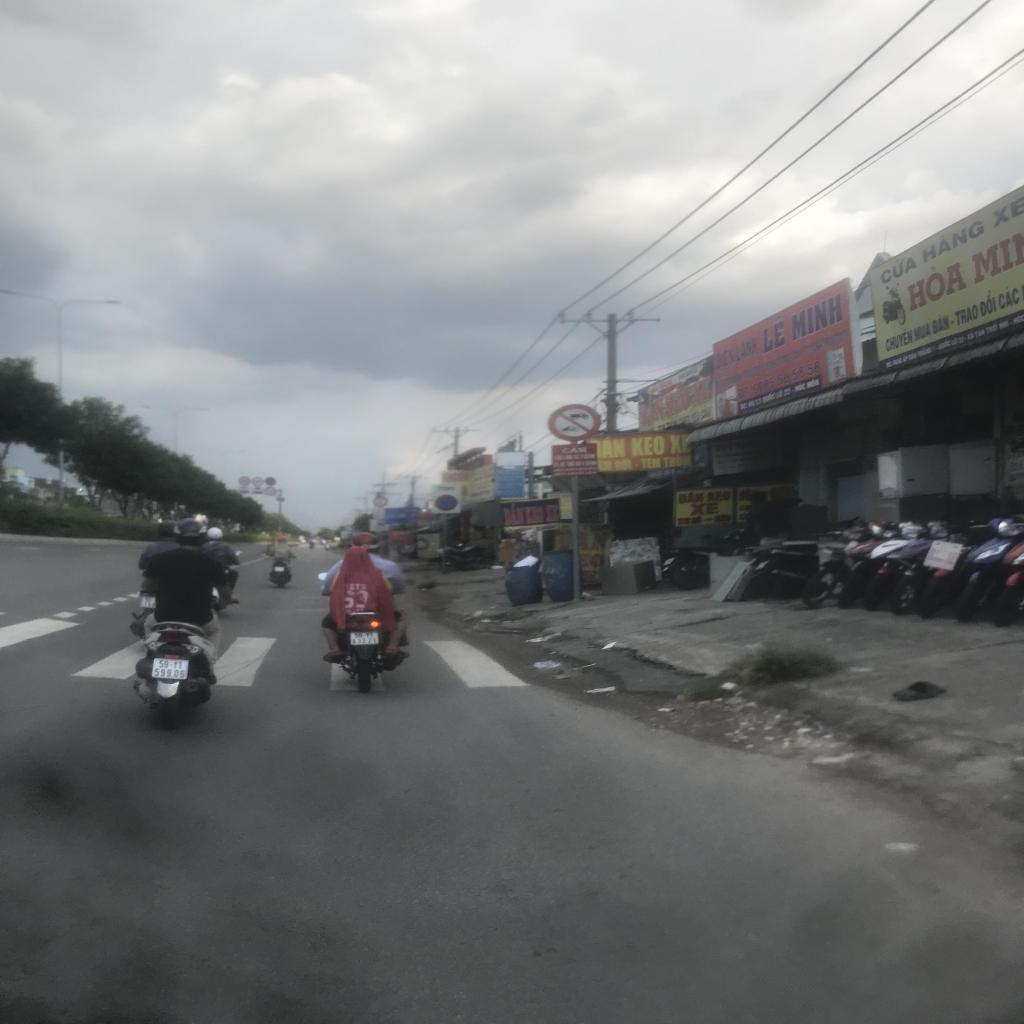cam_cac_loai_xe_3_banh: (549, 404, 600, 442)
cam_do_xe: (435, 494, 458, 512)
cam_dung_xe_va_do_xe: (265, 476, 276, 486)
cam_o_to_tai_va_xe_khach: (374, 497, 388, 507)
cam_xe_2_banh_va_xe_3_banh_co_dong_co: (264, 486, 276, 496)
khac: (239, 486, 250, 491), (251, 490, 263, 494), (240, 490, 250, 494), (252, 486, 262, 490)
lan_duong_cho_tung_xe_theo_vach_ke_duong: (385, 508, 417, 524)
toc_do_toi_da_60: (252, 477, 264, 486)
toc_do_toi_da_80: (239, 476, 252, 485)
